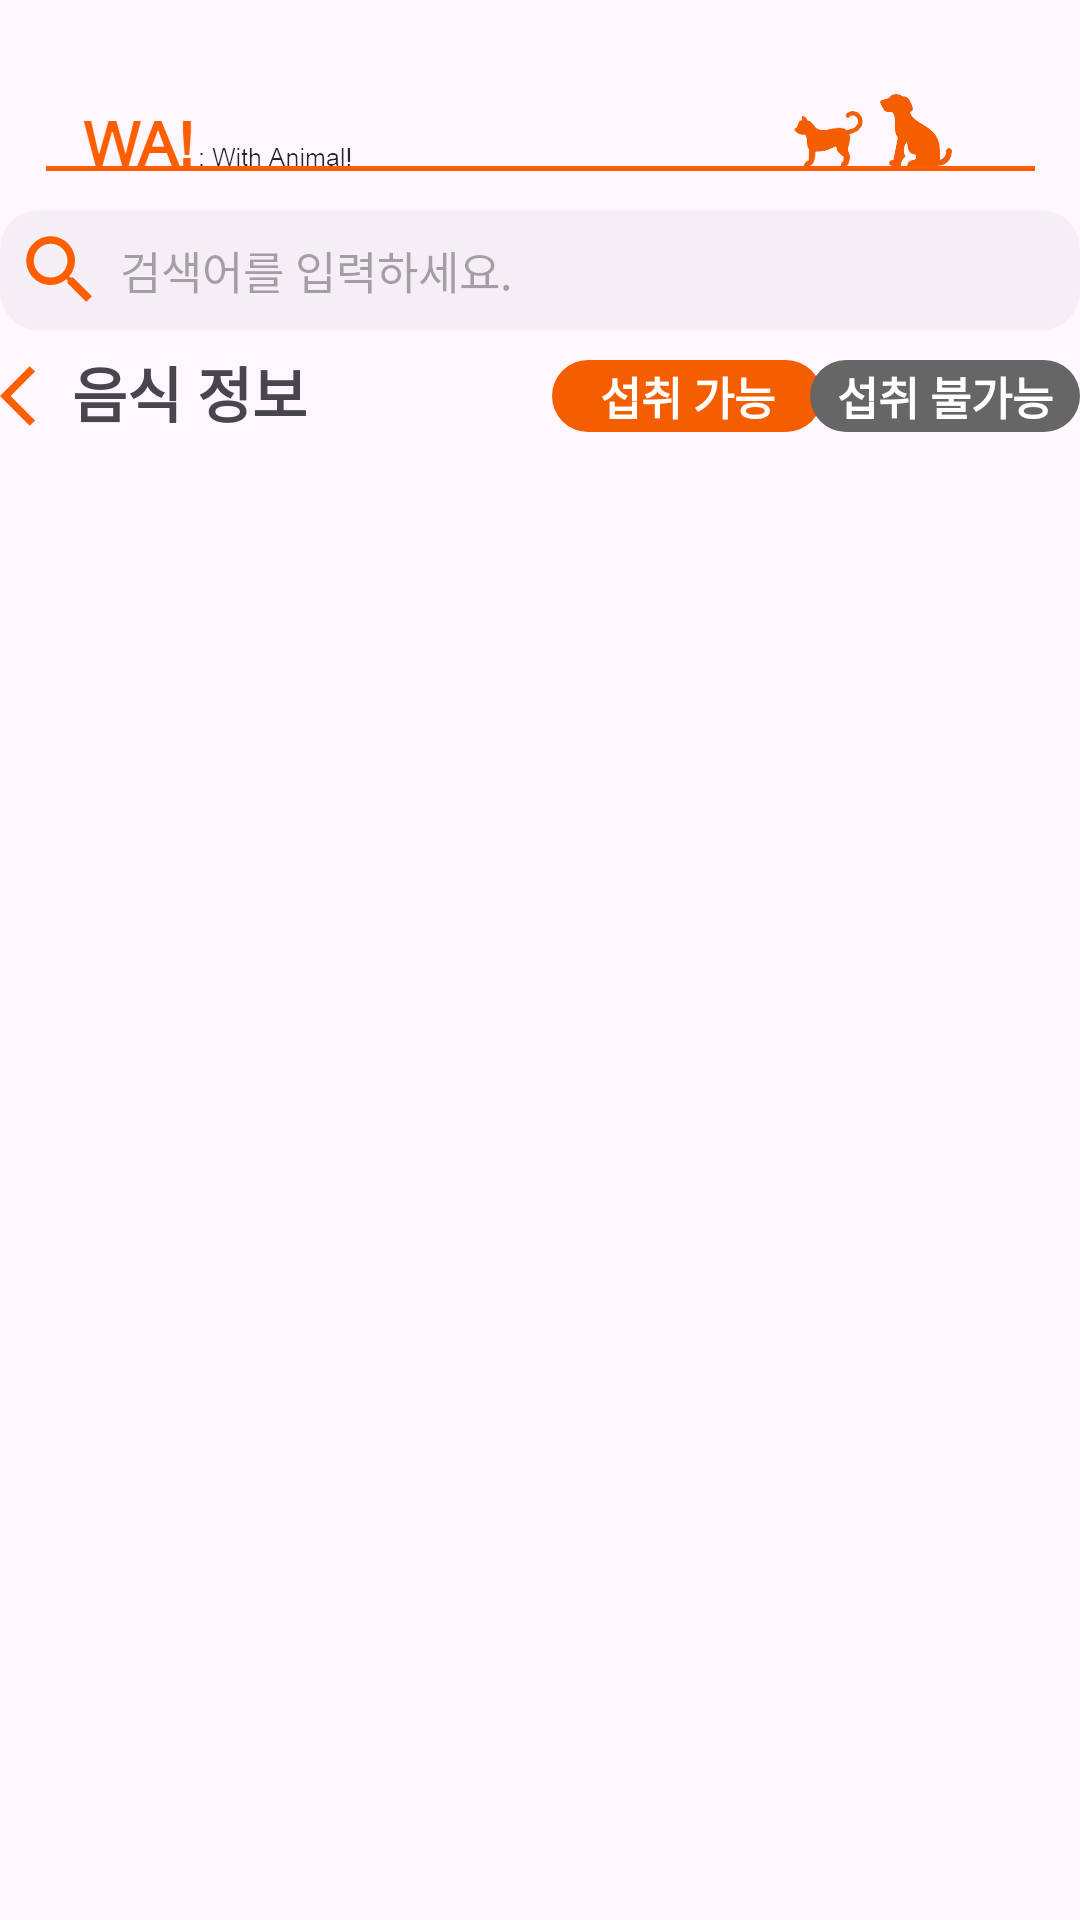

Locate icon controls on the screen. Image size 1080×1920, boxes as (x1, y1, x2, y2).
arrow back: (0, 366, 35, 426)
search: (26, 236, 92, 302)
